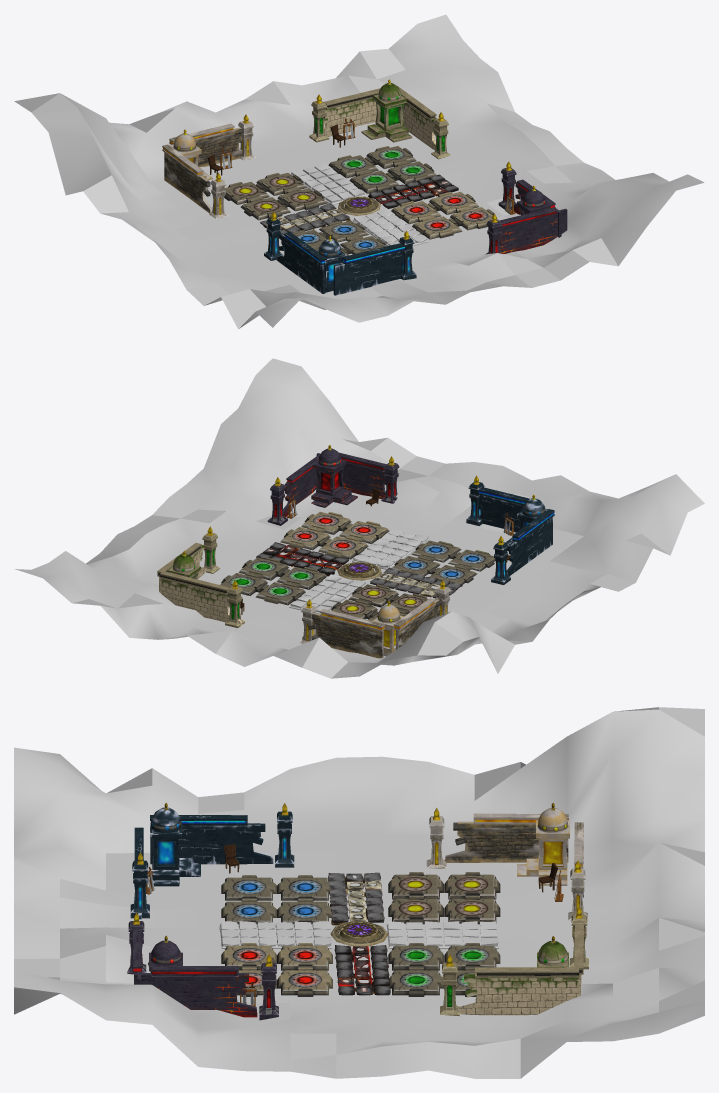
The model's file is Board_AllAssets_New_2.FBX.
3 renders of one model, top to bottom at view 1: azimuth 30°, elevation 25°; view 2: azimuth 150°, elevation 25°; view 3: azimuth 270°, elevation 25°, orthographic. The views are drawn at different scales.
Parts seen in each view (by area): view 1: Board, DesertPlatform (×2), Wall_Snow001, TempleGreen, Wall_Lava, GreenGrassPlatform_01, LavaSample2, WaterPlatform_002, Wall_Lava006, Wall_Snow, Wall_002, Wall_Lava004 (+26 smaller); view 2: Board, DesertPlatform (×2), Wall_Lava004, Wall_002, TempleLava, WaterPlatform_002, LavaSample2, GreenGrassPlatform_01, Wall_Snow, Wall_Lava, Wall_Snow001, PlayerPlatform005 (+25 smaller); view 3: Board, Wall_004, DesertPlatform (×2), Wall_Lava006, Wall_Lava001, Wall_Snow, WaterPlatform_002, GreenGrassPlatform_01, TempleSnow, LavaSample2, TempleRedDesert, LavaPlatform006 (+26 smaller).
Boxes of the visible parts, left/top/right/bottom form: Board: left=14, top=14, right=704, bottom=329; DesertPlatform (×2): left=260, top=188, right=350, bottom=233; Wall_Snow001: left=333, top=251, right=413, bottom=295; TempleGreen: left=361, top=83, right=412, bottom=142; Wall_Lava: left=486, top=208, right=567, bottom=254; GreenGrassPlatform_01: left=291, top=163, right=366, bottom=204; LavaSample2: left=368, top=174, right=458, bottom=208; WaterPlatform_002: left=352, top=208, right=428, bottom=246; Wall_Lava006: left=164, top=152, right=212, bottom=213; Wall_Snow: left=276, top=233, right=325, bottom=293; Wall_002: left=312, top=98, right=376, bottom=139; Wall_Lava004: left=195, top=127, right=242, bottom=167; Board: left=15, top=358, right=704, bottom=678; DesertPlatform (×2): left=348, top=567, right=462, bottom=607; Wall_Lava004: left=302, top=613, right=383, bottom=658; Wall_002: left=161, top=579, right=242, bottom=625; TempleLava: left=311, top=448, right=357, bottom=507; WaterPlatform_002: left=352, top=529, right=429, bottom=569; LavaSample2: left=256, top=542, right=348, bottom=576; GreenGrassPlatform_01: left=289, top=574, right=366, bottom=614; Wall_Snow: left=506, top=517, right=552, bottom=575; Wall_Lava: left=316, top=453, right=397, bottom=500; Wall_Snow001: left=469, top=495, right=547, bottom=532; PlayerPlatform005: left=255, top=582, right=305, bottom=605; Board: left=14, top=707, right=704, bottom=1078; Wall_004: left=456, top=973, right=578, bottom=1015; DesertPlatform (×2): left=328, top=872, right=443, bottom=925; Wall_Lava006: left=445, top=821, right=568, bottom=862; Wall_Lava001: left=134, top=973, right=257, bottom=1017; Wall_Snow: left=150, top=823, right=273, bottom=864; WaterPlatform_002: left=219, top=921, right=332, bottom=948; GreenGrassPlatform_01: left=386, top=921, right=498, bottom=948; TempleSnow: left=150, top=807, right=200, bottom=886; LavaSample2: left=334, top=945, right=390, bottom=995; TempleRedDesert: left=517, top=808, right=569, bottom=885; LavaPlatform006: left=277, top=967, right=332, bottom=996.
Bounding box in the file's own units: 2755 × 2857 × 514.
